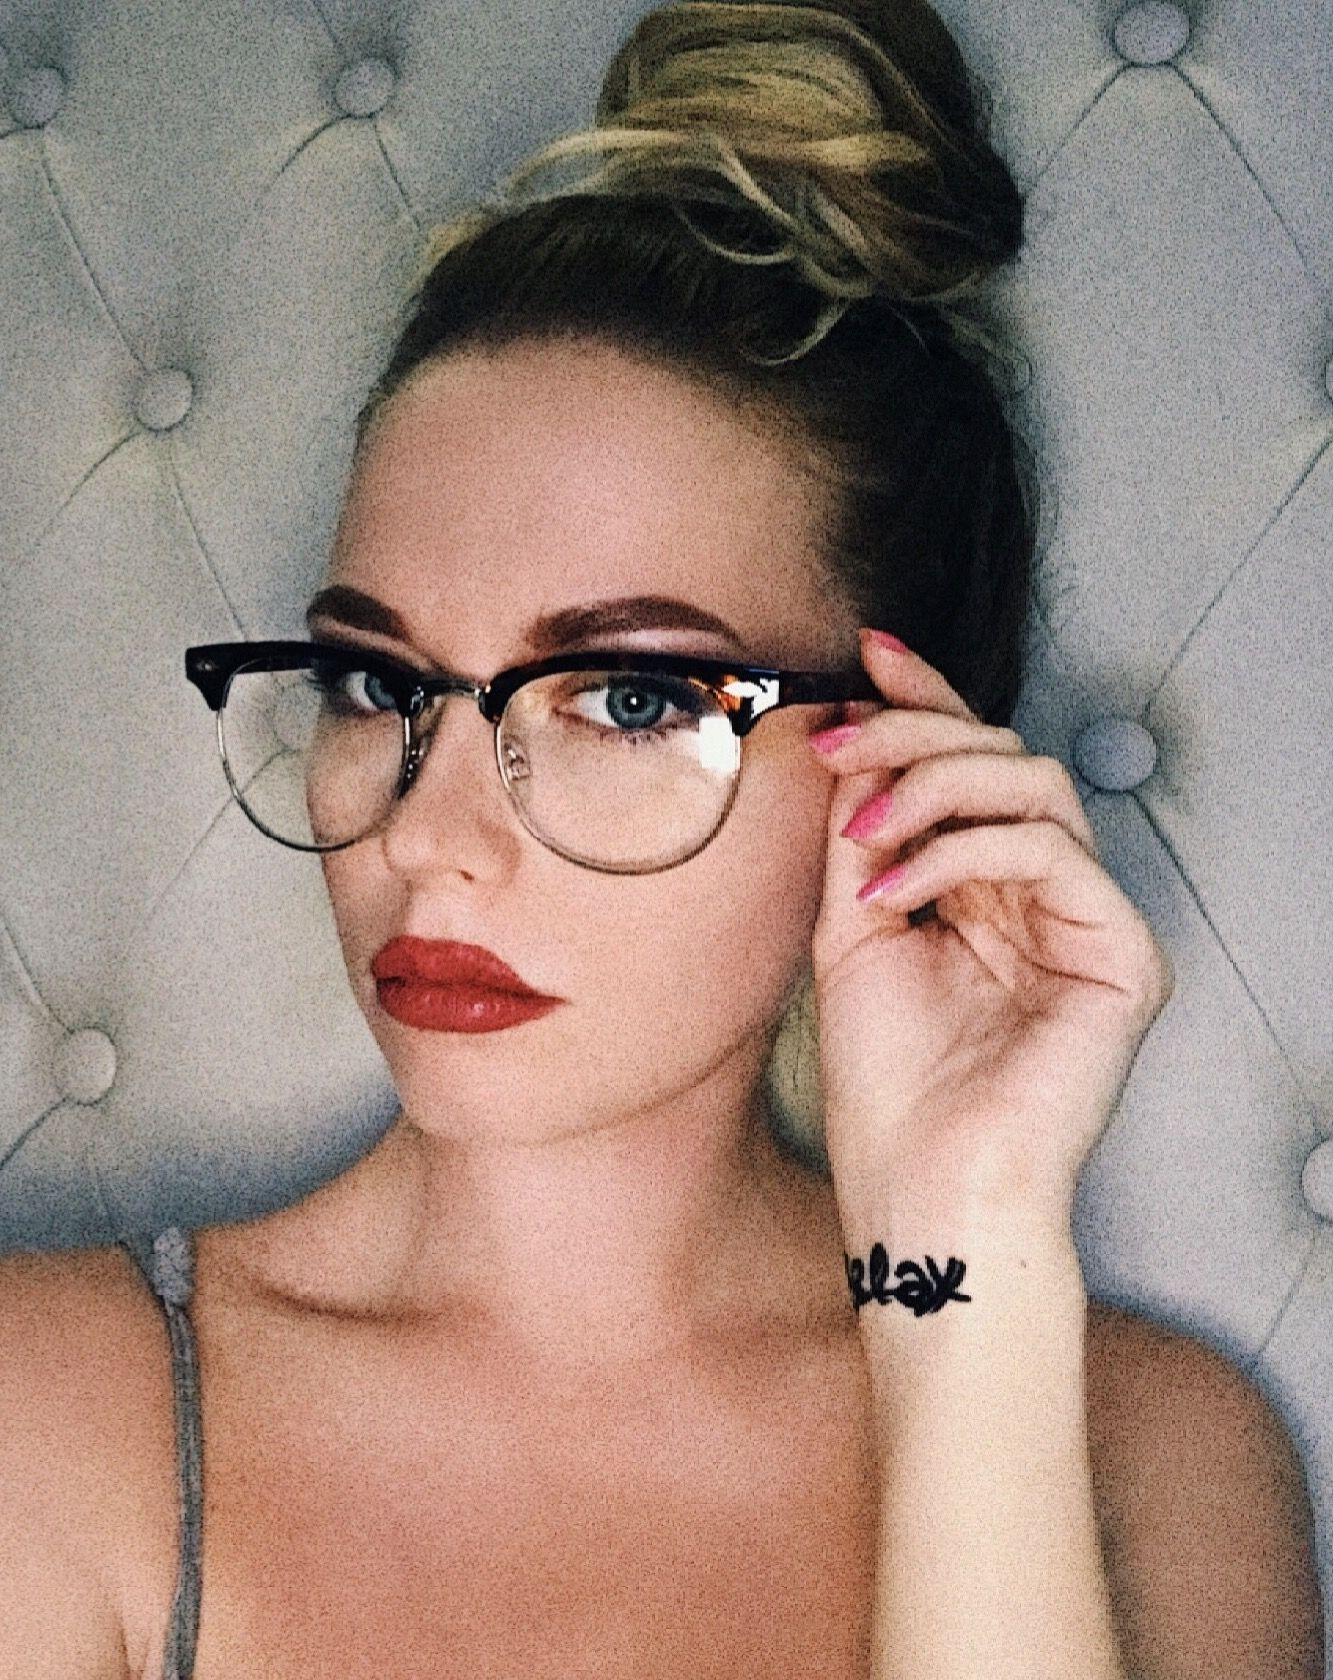glasses: (151, 595, 816, 893)
